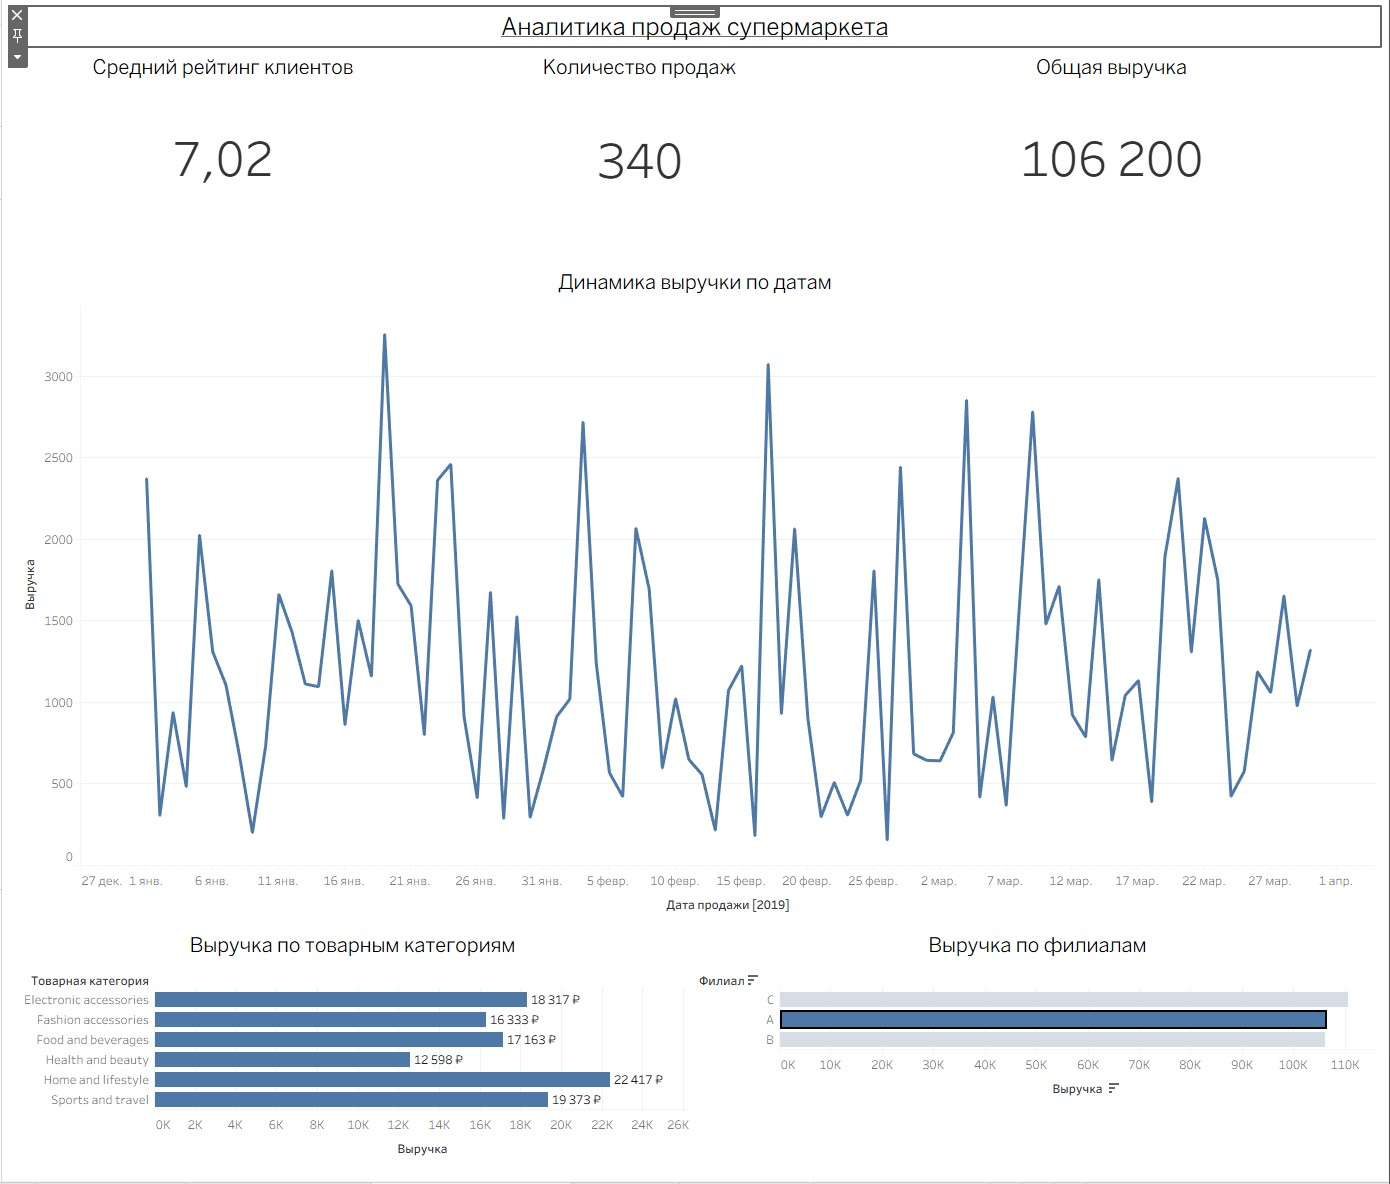

The dashboard page shown, as its layout file describes it:
{"tool":"tableau","page":{"name":"Аналитика продаж супермаркета","canvas":[1000,1000],"units":"permille","ordinal":0},"visuals":[{"type":"title","box":[5.8,6.8,988.5,33]},{"type":"worksheet","title":"Средний рейтинг клиентов","mark":"Automatic","box":[5.8,39.8,307.4,181.5]},{"type":"worksheet","title":"Количество продаж","mark":"Automatic","box":[313.1,39.8,293.7,181.5]},{"type":"worksheet","title":"Общая выручка","mark":"Automatic","box":[606.8,39.8,387.4,181.5]},{"type":"worksheet","title":"Динамика выручки по датам","mark":"Automatic","rows":["revenue"],"cols":["sale_date"],"box":[5.8,221.3,988.5,561]},{"type":"worksheet","title":"Выручка по товарным категориям","mark":"Automatic","rows":["product_line"],"cols":["revenue"],"box":[5.8,782.2,494.2,211]},{"type":"worksheet","title":"Выручка по филиалам","mark":"Automatic","rows":["branch"],"cols":["revenue"],"box":[500,782.2,494.2,211]}]}

Visuals, with their boxes on the dashboard's canvas, which has no fixed pixel size, in thousandths of its width and height (x1, y1, x2, y2). These are canvas units, not pixel positions in the 1390x1184 screenshot, which may show the page scaled, cropped or inside an application window:
title: <region>6, 7, 994, 40</region>
"Средний рейтинг клиентов" worksheet: <region>6, 40, 313, 221</region>
"Количество продаж" worksheet: <region>313, 40, 607, 221</region>
"Общая выручка" worksheet: <region>607, 40, 994, 221</region>
"Динамика выручки по датам" worksheet: <region>6, 221, 994, 782</region>
"Выручка по товарным категориям" worksheet: <region>6, 782, 500, 993</region>
"Выручка по филиалам" worksheet: <region>500, 782, 994, 993</region>
